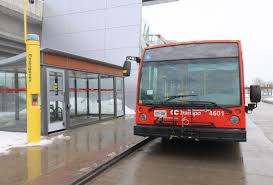bus: (134, 38, 262, 148)
